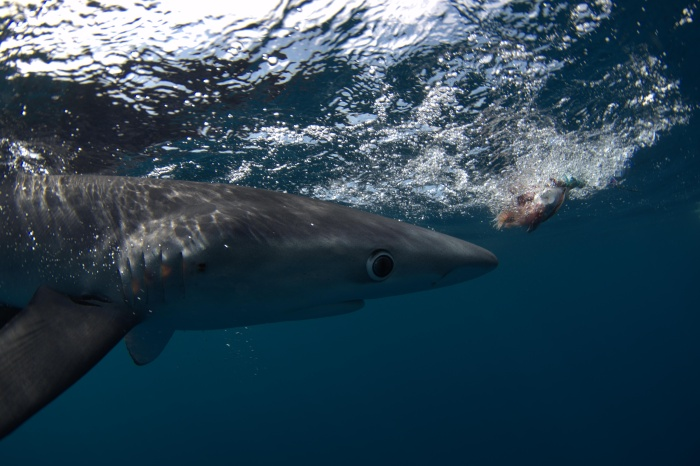Azul: (1, 112, 522, 439)
